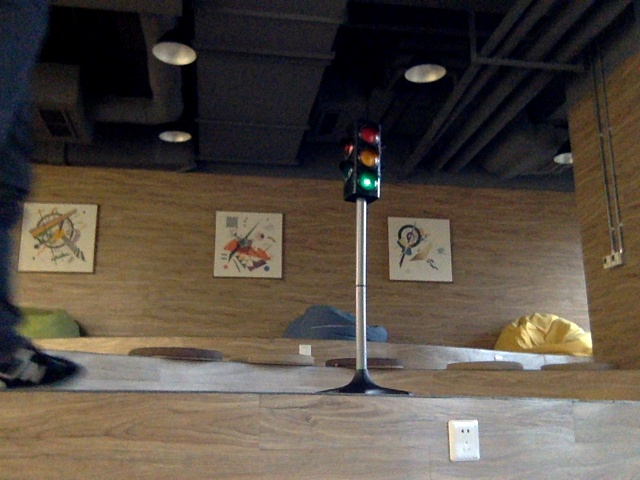green: (355, 127, 378, 194)
